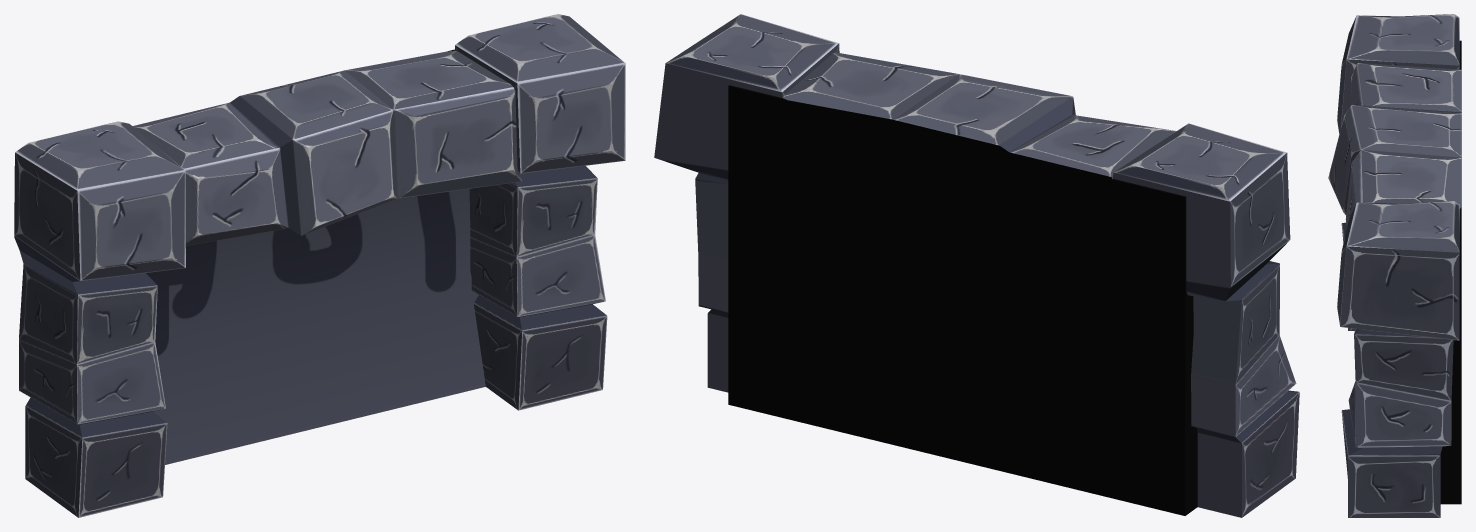
File: Wall Entire.FBX
The picture shows the model from 3 angles, left to right: view 1: azimuth 30°, elevation 25°; view 2: azimuth 150°, elevation 25°; view 3: azimuth 270°, elevation 25°; orthographic projection. The views are drawn at different scales.
Parts seen in each view (by area): view 1: Box058; view 2: Box058; view 3: Box058.
Part boxes in pixels (x1=…): Box058: x1=14, y1=14, x2=625, y2=517; Box058: x1=654, y1=14, x2=1299, y2=517; Box058: x1=1328, y1=14, x2=1461, y2=517.
Size of the model in its own units: 573 by 316 by 134.
